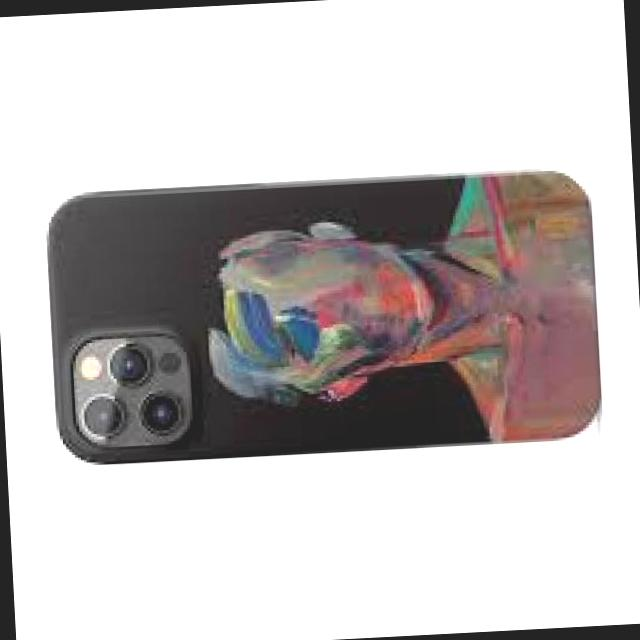lens_back: (70, 329, 194, 450)
phone: (37, 158, 607, 474)
